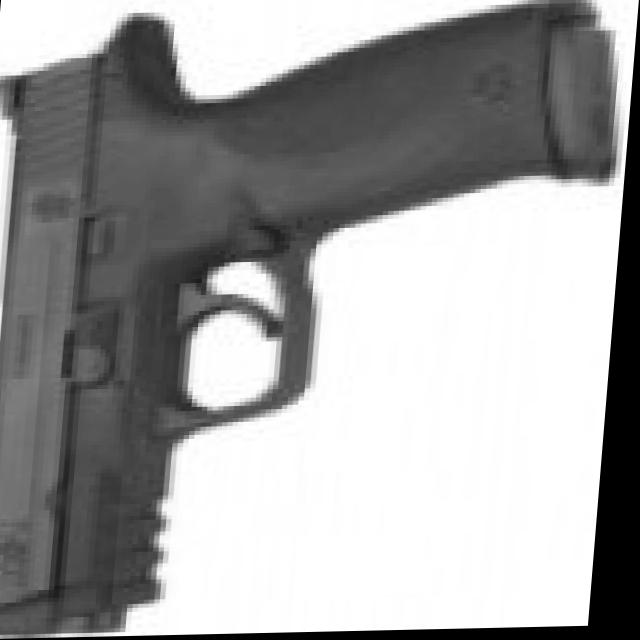handgun: (0, 5, 628, 640)
